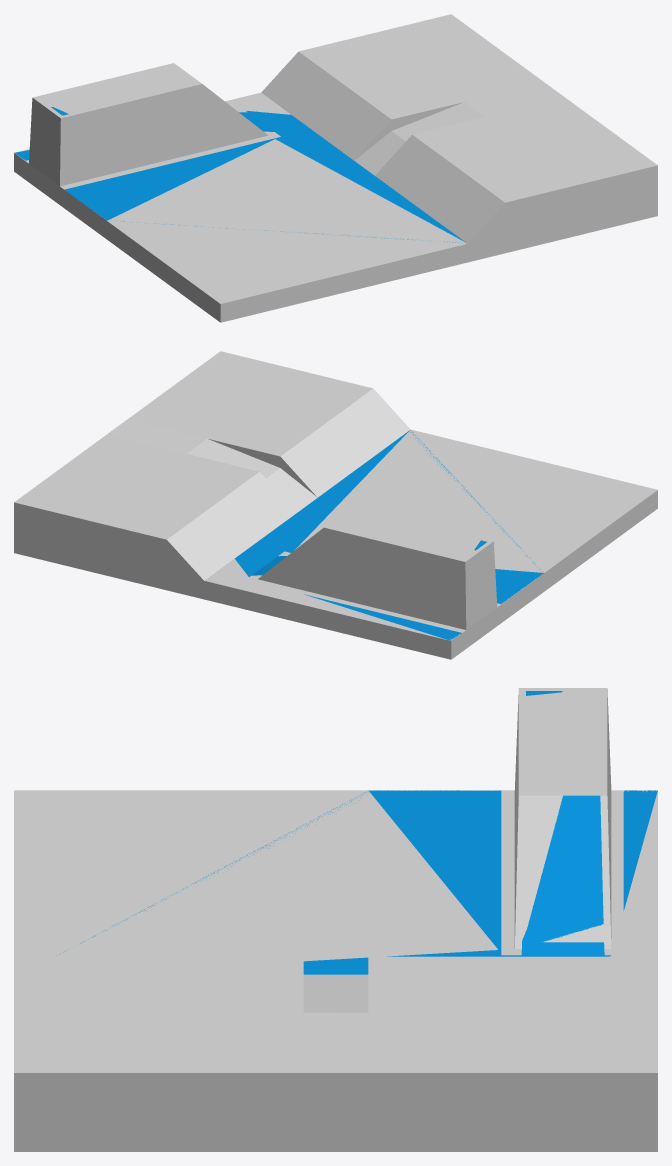
The model's file is placeholder arena 2.glb.
The picture shows the model from 3 angles, top to bottom: view 1: azimuth 30°, elevation 25°; view 2: azimuth 150°, elevation 25°; view 3: azimuth 270°, elevation 25°; orthographic projection. The views are drawn at different scales.
Parts seen in each view (by area): view 1: Cube, Cube.002; view 2: Cube, Cube.002; view 3: Cube, Cube.002.
Part boxes in pixels (x1,y1,x2,y2): Cube: (14,14,657,322); Cube.002: (14,107,466,243); Cube: (14,351,657,659); Cube.002: (234,430,543,640); Cube: (14,688,657,1151); Cube.002: (56,691,657,974).
Bounding box in the file's own units: 48.88 × 9.12 × 40.
